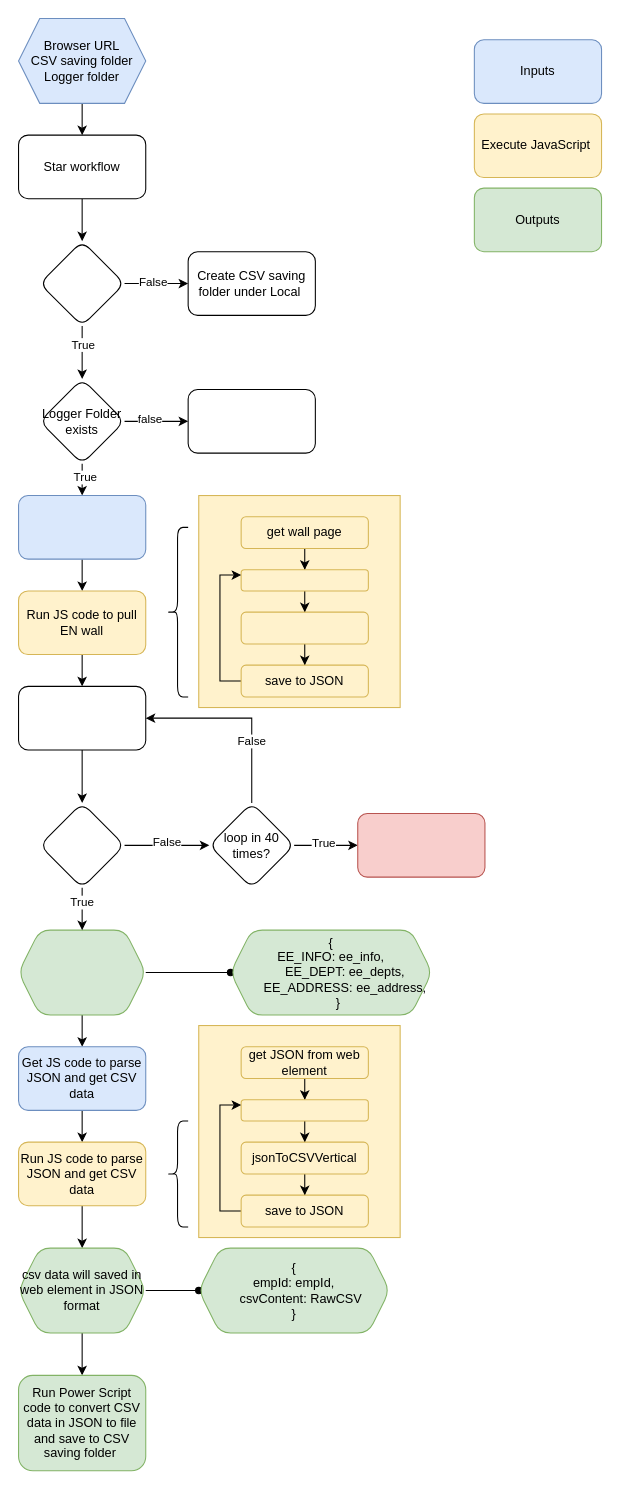
This 620x1489 diagram has some shape labels left out. Each missing label, with the box of its shape:
Create log saving folder under Local: (187, 388, 315, 453)
CSV folder exists: (39, 240, 125, 326)
Get JS code to pull EN wall: (17, 494, 146, 559)
loop each card: (240, 569, 368, 591)
loop each EE: (240, 1099, 368, 1121)
loop to check if we get the JSON result: (17, 685, 146, 750)
pull EE info: (240, 611, 368, 644)
Report Error and terminate the flow: (357, 812, 485, 877)
result get: (39, 802, 125, 888)
result will saved in web element in JSON format: (17, 929, 146, 1015)
